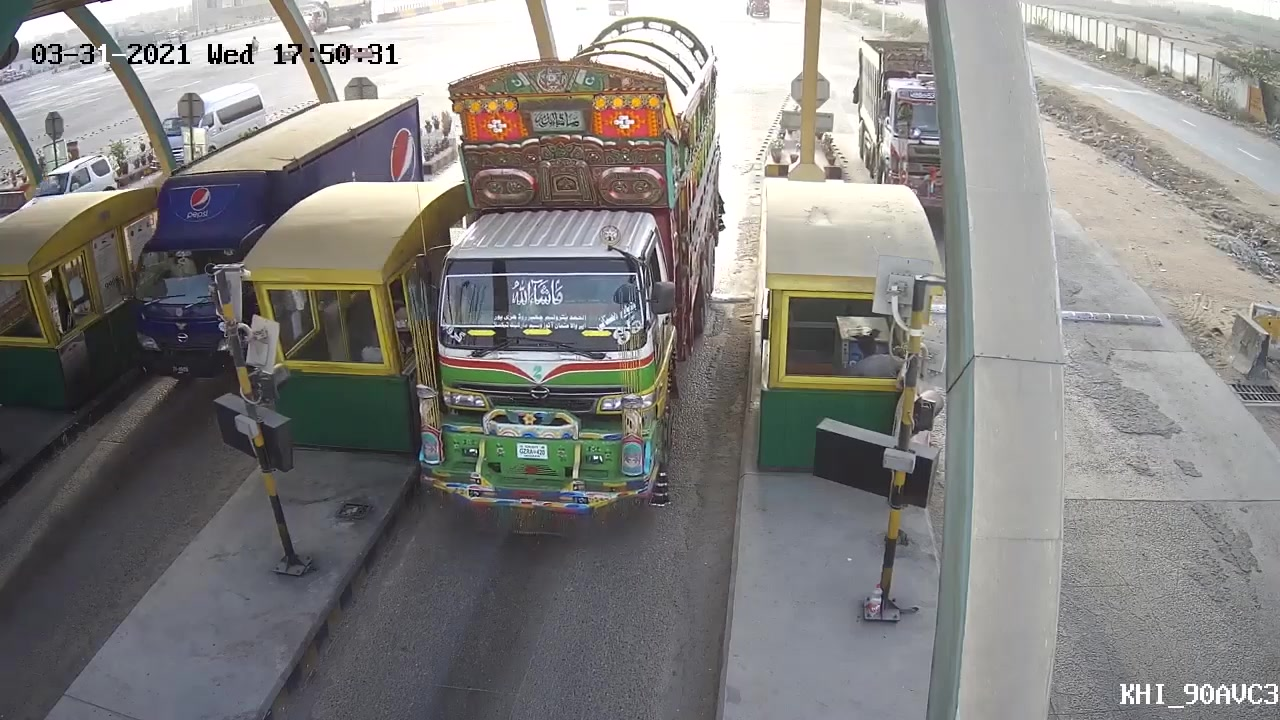F5: (398, 15, 737, 525)
